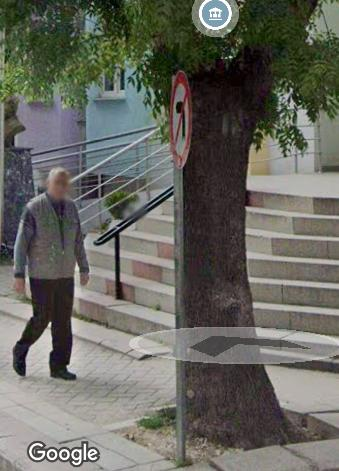leftturnsareforbidden: (162, 69, 199, 170)
